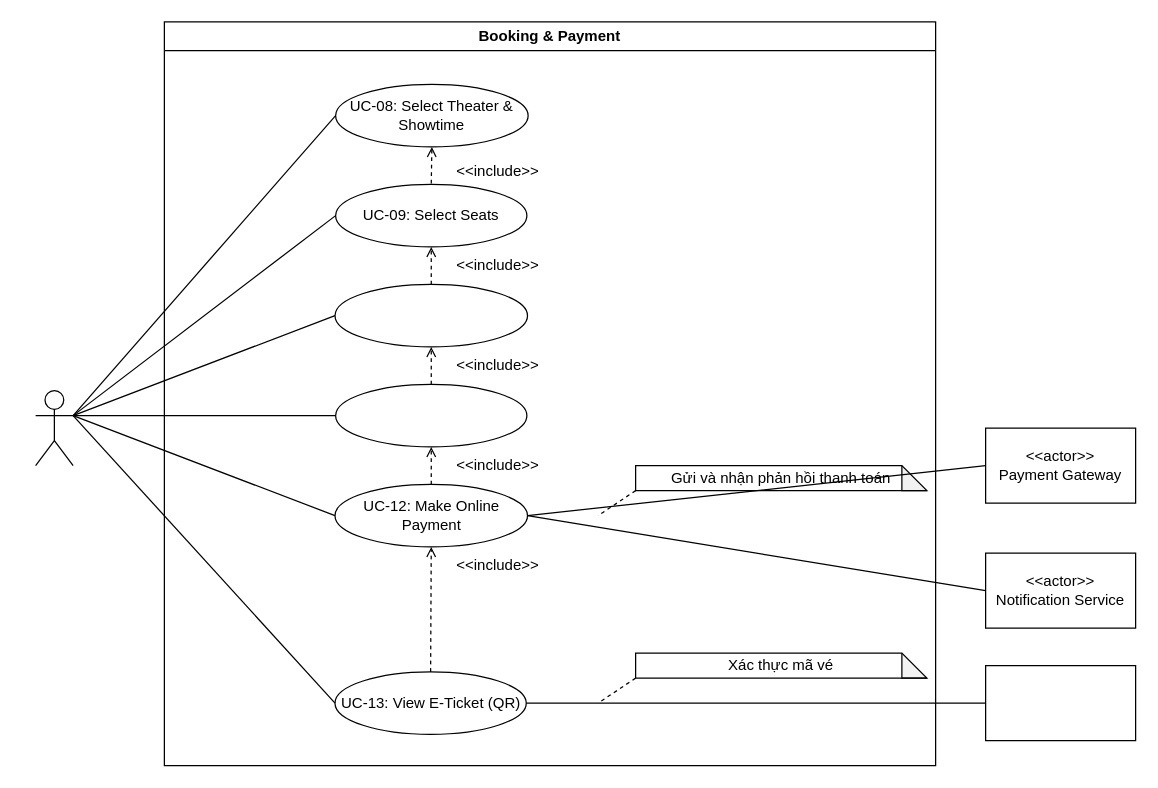
The diagram is 1158 pixels wide and 788 high, and some of its shapes have lost their labels. Each missing label, with the centre of its shape:
"<<actor>> QR Validation Service" goes at pixel 1060 702.
"Customer" goes at pixel 53 427.
"UC-10: Add Combo (Concession)" goes at pixel 431 315.
"UC-11: Apply Voucher" goes at pixel 430 415.
